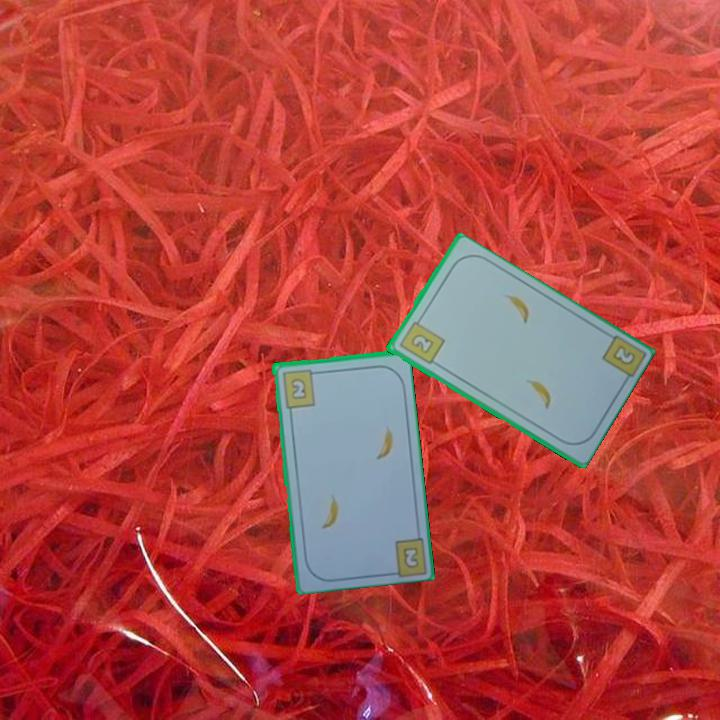2b: (395, 314, 447, 367), (279, 366, 321, 410), (609, 342, 638, 368), (399, 543, 422, 571)
